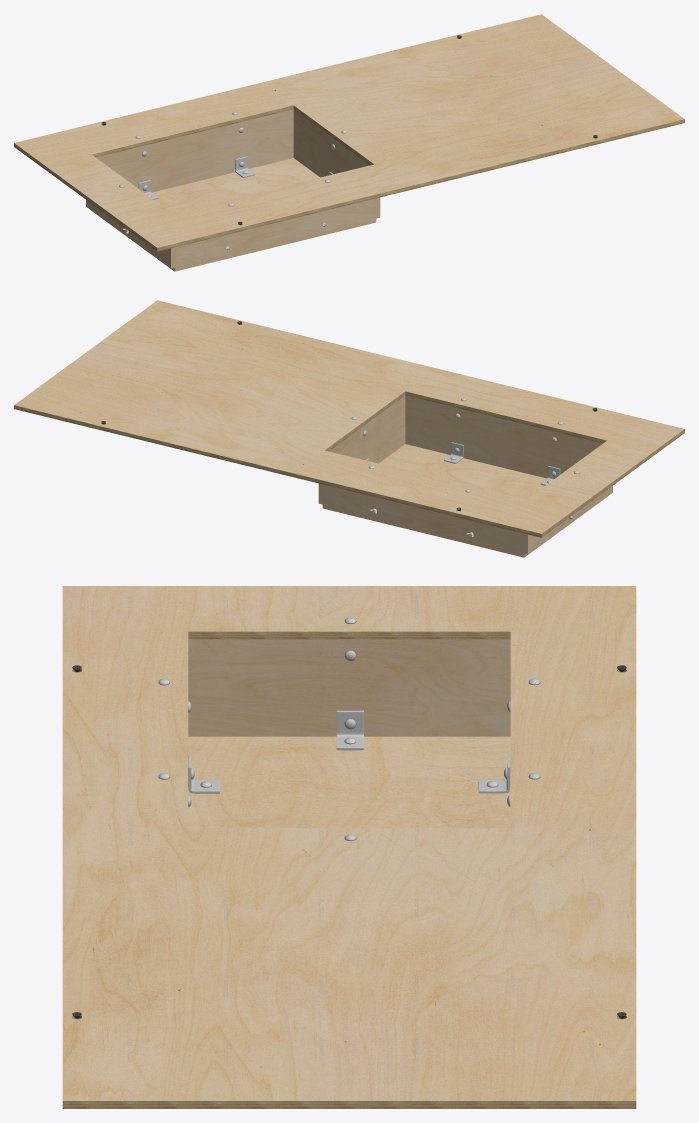
3 views of the same model, one above another, from view 1: azimuth 30°, elevation 25°; view 2: azimuth 150°, elevation 25°; view 3: azimuth 270°, elevation 25° (orthographic). The views are drawn at different scales.
Parts seen in each view (by area): view 1: STOL.020, Куб.341, Куб.372, Куб.342, Куб.371, Куб.370; view 2: STOL.020, Куб.342, Куб.372, Куб.341, Куб.371, Куб.370; view 3: STOL.020, Куб.370, Куб.372, Bracket.Angle.700.
Boxes of the visible parts, <box> form: STOL.020: <box>14,14,684,251</box>; Куб.341: <box>96,109,293,192</box>; Куб.372: <box>90,158,376,271</box>; Куб.342: <box>174,198,376,267</box>; Куб.371: <box>293,109,380,218</box>; Куб.370: <box>86,200,174,268</box>; STOL.020: <box>14,300,684,537</box>; Куб.342: <box>405,395,602,478</box>; Куб.372: <box>322,444,608,557</box>; Куб.341: <box>322,484,524,553</box>; Куб.371: <box>318,395,405,504</box>; Куб.370: <box>524,486,612,554</box>; STOL.020: <box>62,586,636,1108</box>; Куб.370: <box>188,639,510,736</box>; Куб.372: <box>188,736,510,828</box>; Bracket.Angle.700: <box>336,710,363,750</box>.
Bounding box in the file's own units: 1.7 × 0.1917 × 0.8.
